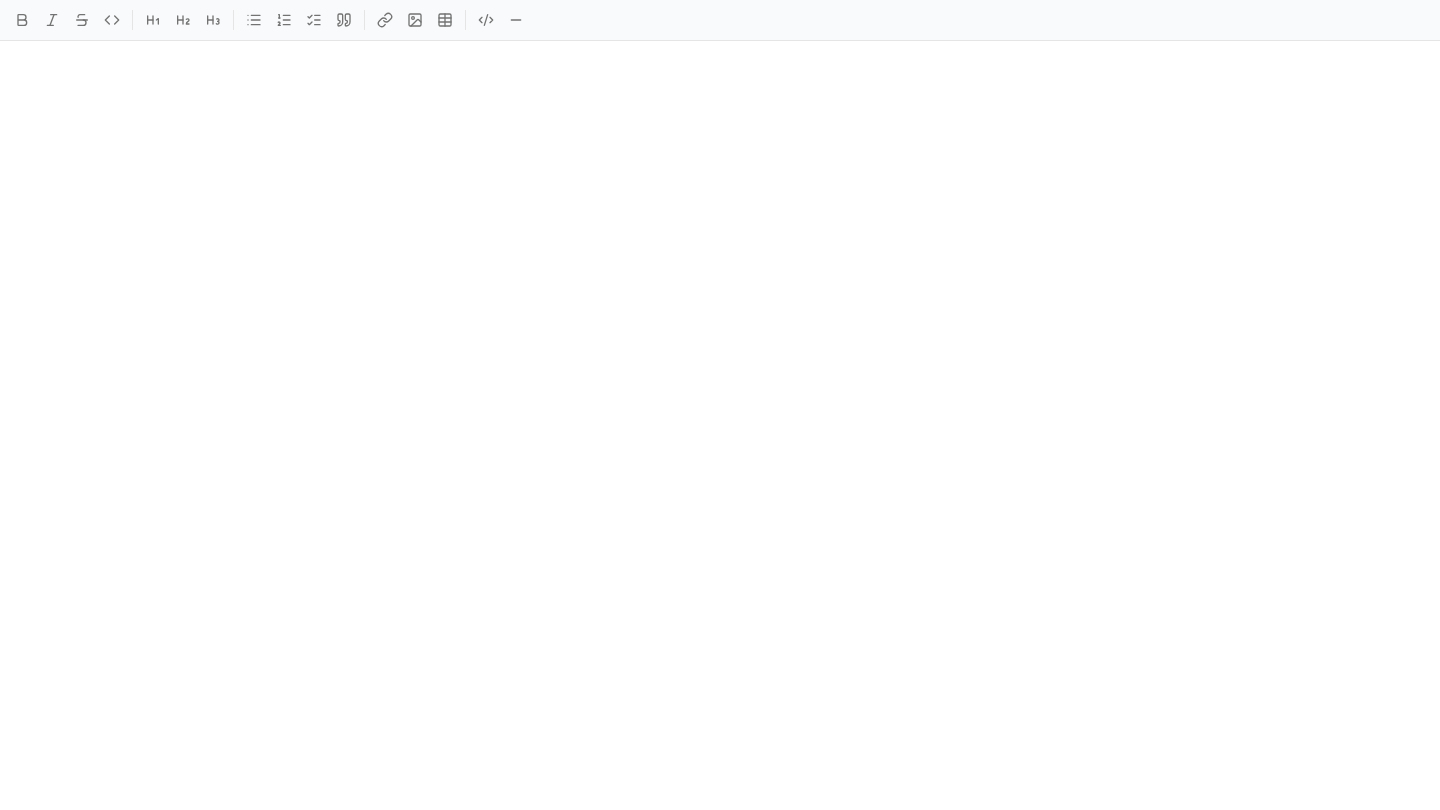
Test: EditorToolbar › 点击行内代码 → 选区被 ` 包围
Click the button named "行内代码": {"x": 112, "y": 20} x1=98 y1=6 x2=126 y2=34
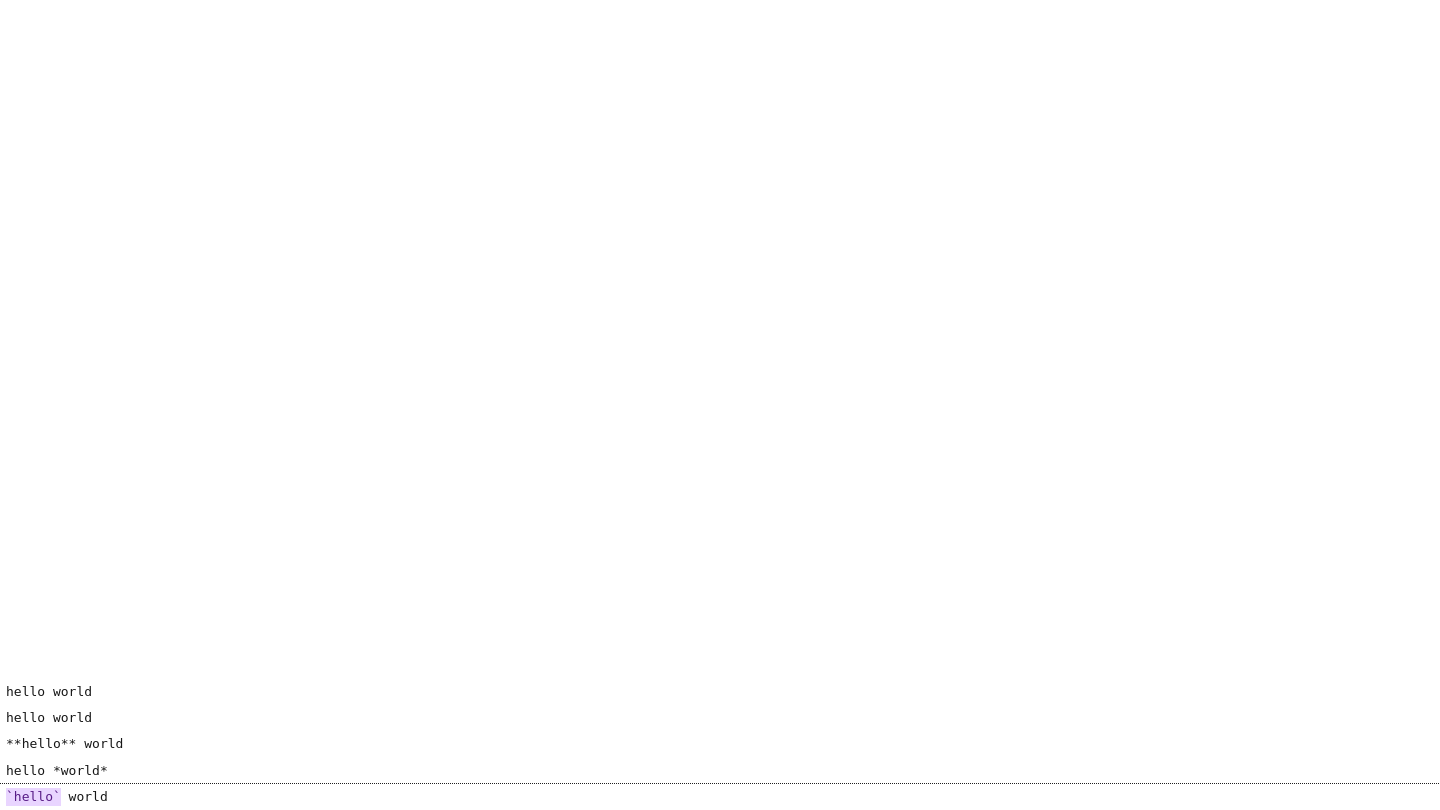
Result: the text box labelled "`hello` world" is shown at x1=6 y1=789 x2=108 y2=804
